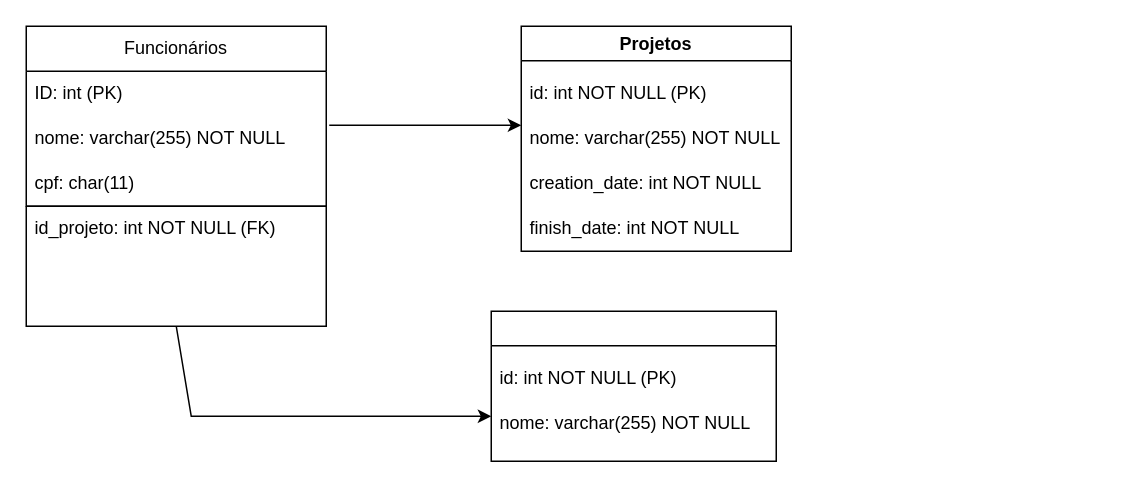
This 1148x488 diagram has some shape labels left out. Each missing label, with the box of its shape:
Departamentos: (490, 310, 776, 461)
id_departamento: int NOT NULL (FK): (25, 205, 326, 326)
